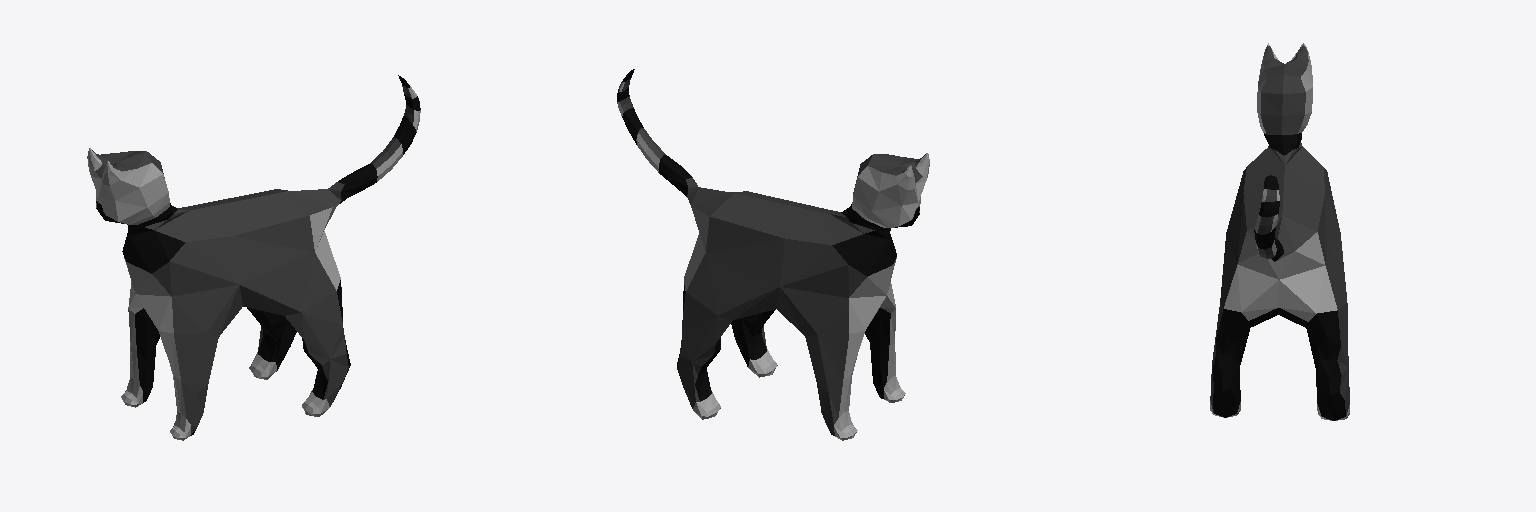
Rendered from cat.obj.
3 views of the same model, side by side, from view 1: azimuth 30°, elevation 25°; view 2: azimuth 150°, elevation 25°; view 3: azimuth 270°, elevation 25° (orthographic).
Visible parts, largest first — view 1: Cat_Cube; view 2: Cat_Cube; view 3: Cat_Cube.
Boxes of the visible parts, box(x1,y1,x2,y2) form: Cat_Cube: box(87, 75, 420, 440); Cat_Cube: box(617, 69, 929, 440); Cat_Cube: box(1210, 43, 1349, 420).
Bounding box in the file's own units: 3.17 × 2.89 × 1.24.